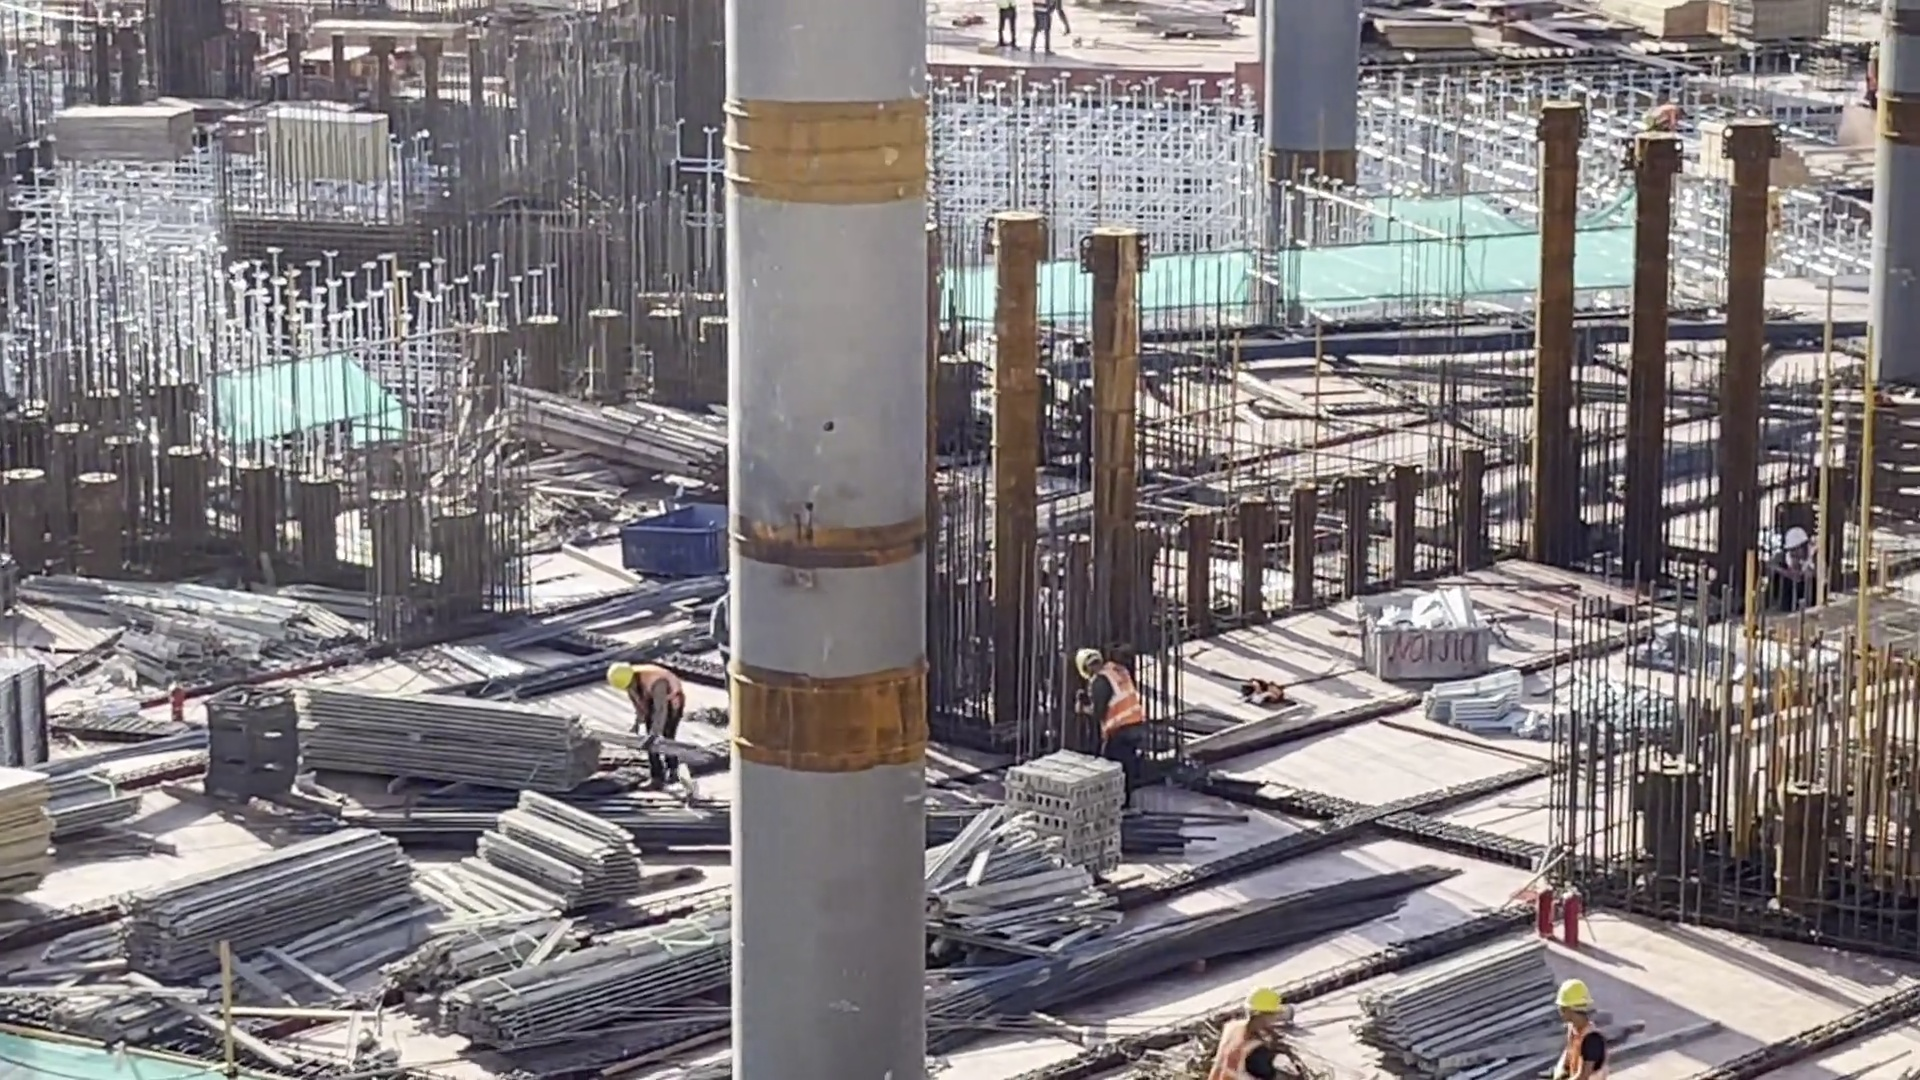board: (59, 106, 199, 169), (1, 803, 66, 896), (1381, 17, 1474, 56)
helmet: (1561, 987, 1596, 1017), (1246, 982, 1274, 1016), (1789, 529, 1814, 552), (1076, 659, 1098, 686), (616, 666, 634, 696), (1648, 108, 1658, 128), (1868, 50, 1879, 63)
hopper: (1349, 581, 1486, 686), (614, 489, 724, 587)
person: (1063, 641, 1156, 805), (616, 655, 703, 783), (1534, 970, 1632, 1080), (1228, 983, 1295, 1080), (1763, 510, 1823, 593), (1633, 92, 1677, 137), (1863, 50, 1886, 136), (1039, 1, 1064, 41), (998, 1, 1024, 38)
rebar: (861, 845, 1416, 1025), (353, 779, 718, 860), (496, 560, 751, 645)
scaffold: (1, 668, 49, 771)
vest: (1099, 664, 1154, 724), (1231, 1019, 1284, 1080), (633, 659, 679, 724), (1563, 1022, 1613, 1080), (713, 599, 733, 667), (1858, 61, 1880, 93), (1793, 547, 1821, 574), (1658, 105, 1681, 123), (1035, 1, 1054, 18), (1007, 1, 1020, 10)
wood: (556, 389, 753, 482), (1669, 1, 1819, 41)
